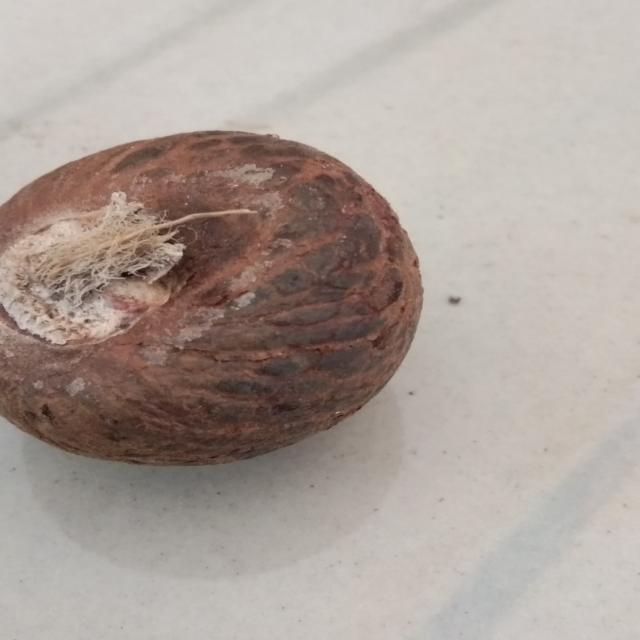karigot: (0, 112, 471, 480)
